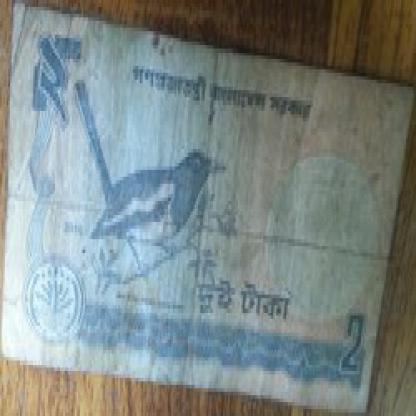two taka: (329, 294, 370, 385), (38, 31, 80, 118)
